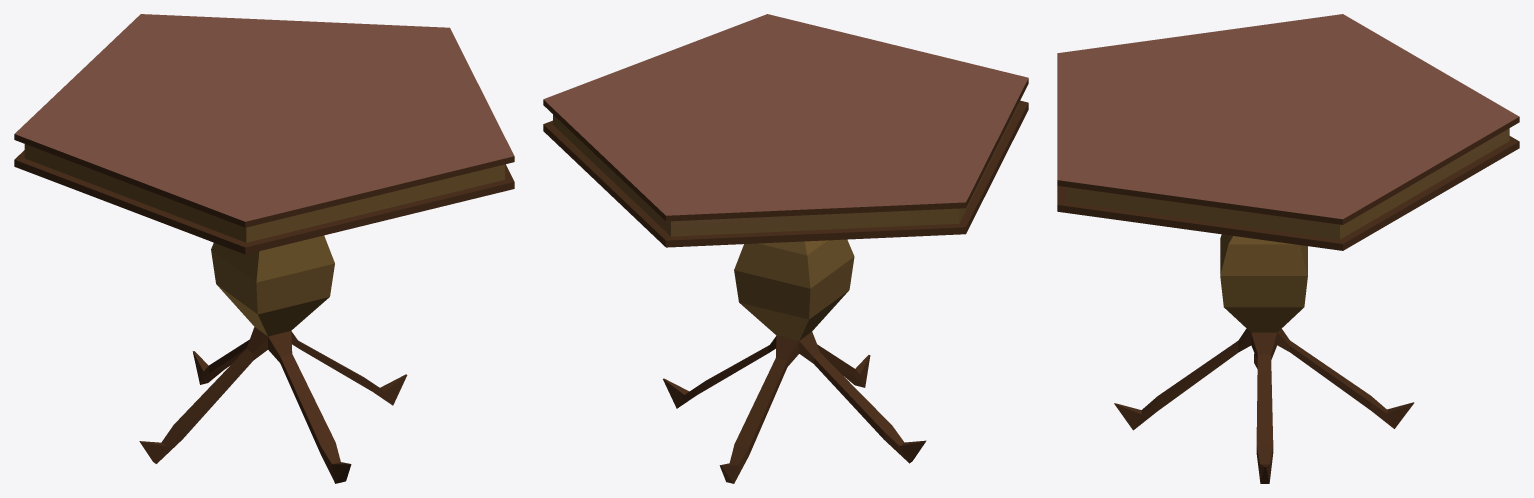
File: mesa.fbx
3 renders of one model, left to right at view 1: azimuth 30°, elevation 25°; view 2: azimuth 150°, elevation 25°; view 3: azimuth 270°, elevation 25°, orthographic. The views are drawn at different scales.
Visible parts, largest first — view 1: Cube.002; view 2: Cube.002; view 3: Cube.002.
Boxes of the visible parts, left/top/right/bottom form: Cube.002: left=14, top=14, right=514, bottom=483; Cube.002: left=543, top=14, right=1028, bottom=483; Cube.002: left=1057, top=14, right=1519, bottom=483.
Bounding box in the file's own units: 1.52 × 1.08 × 1.44.
